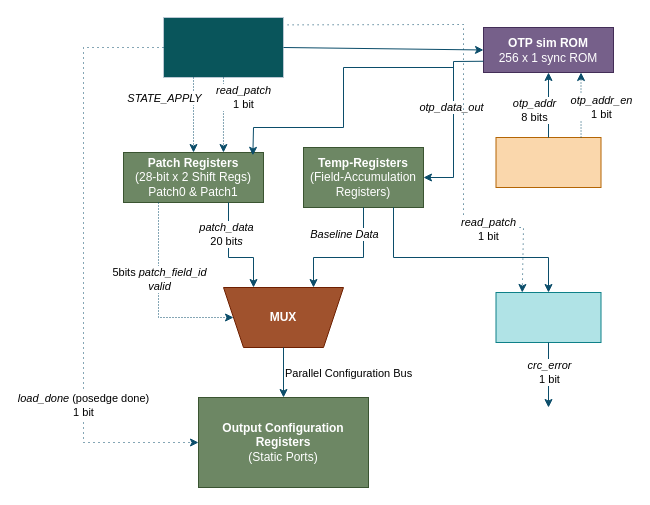
This 650x505 diagram has some shape labels left out. Each missing label, with the centre of its shape:
Address Counter & Adder (8bit): the point at 548,162
CRC-16 CCITT Module: the point at 548,317
Main FSM (Control Unit): the point at 223,47
